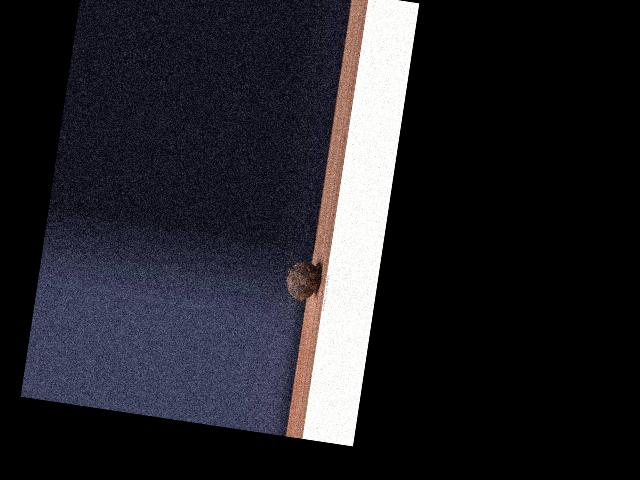beet: (283, 247, 324, 302)
